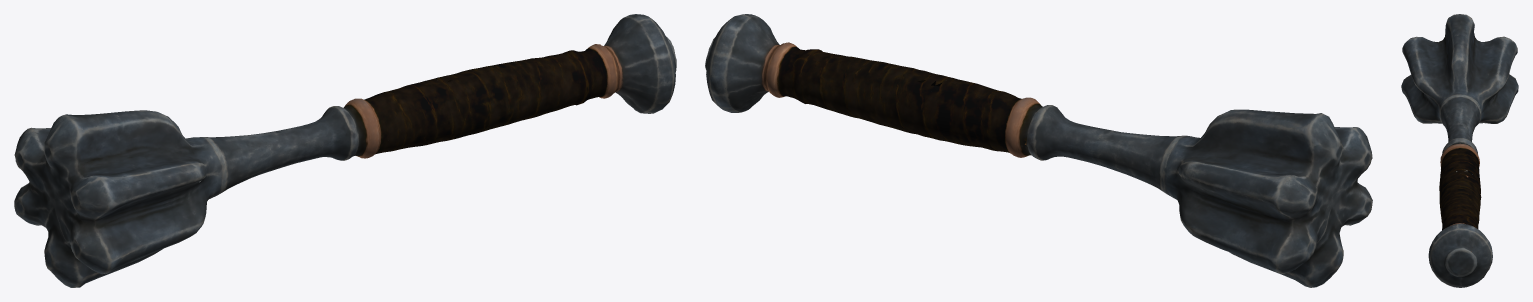
File: mace.glb
The picture shows the model from 3 angles, left to right: view 1: azimuth 30°, elevation 25°; view 2: azimuth 150°, elevation 25°; view 3: azimuth 270°, elevation 25°; orthographic projection. The views are drawn at different scales.
Visible parts, largest first — view 1: geometry_0; view 2: geometry_0; view 3: geometry_0.
Part boxes in pixels (x1,y1,x2,y2): geometry_0: (14, 14, 676, 287); geometry_0: (705, 14, 1372, 287); geometry_0: (1401, 14, 1518, 287).
Size of the model in its own units: 1 by 0.2643 by 0.2498.
Materials: 1 (1 with a texture image).
